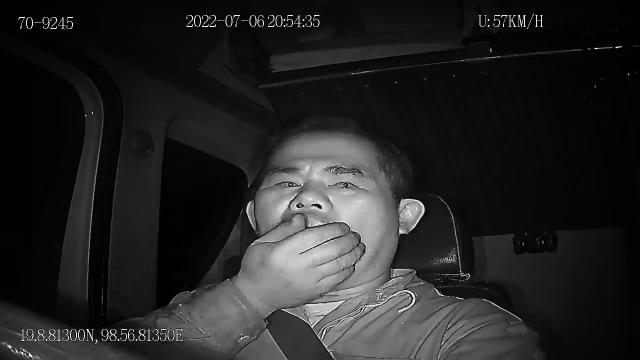SafeDriving: (323, 171, 368, 195), (264, 172, 306, 194)
Seatbelt: (262, 308, 336, 360)
